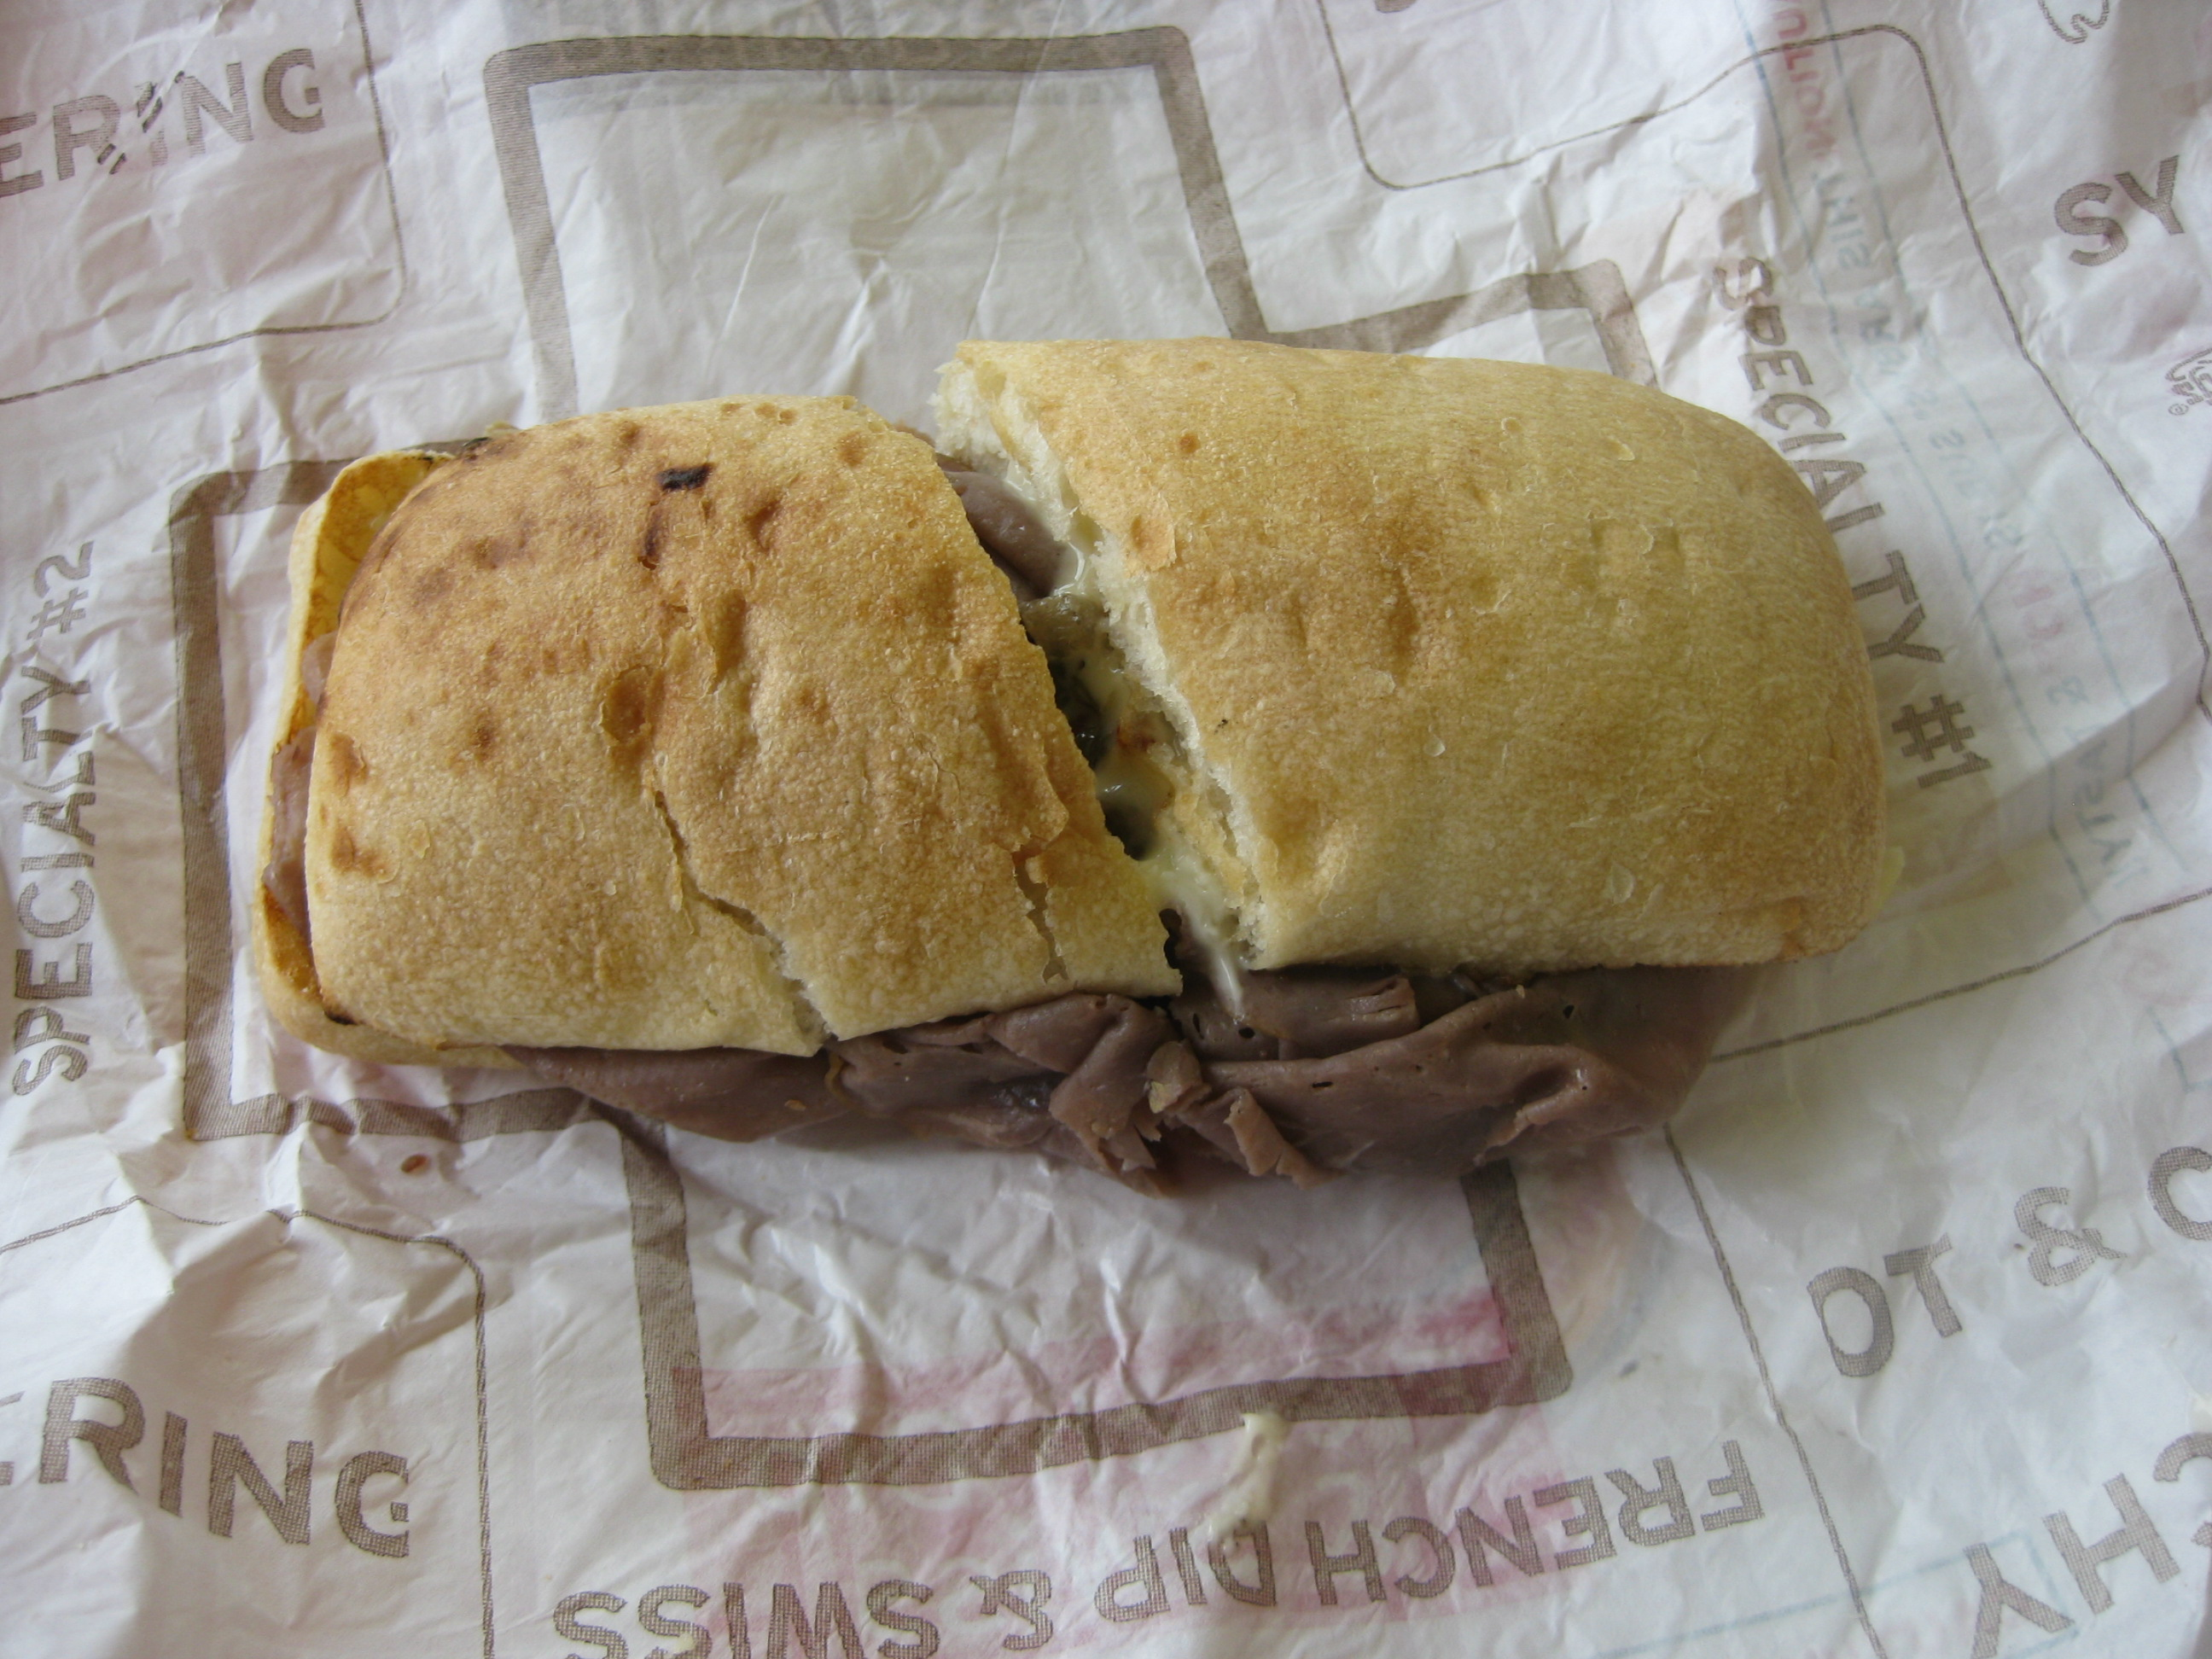sub: (170, 285, 1922, 1194)
